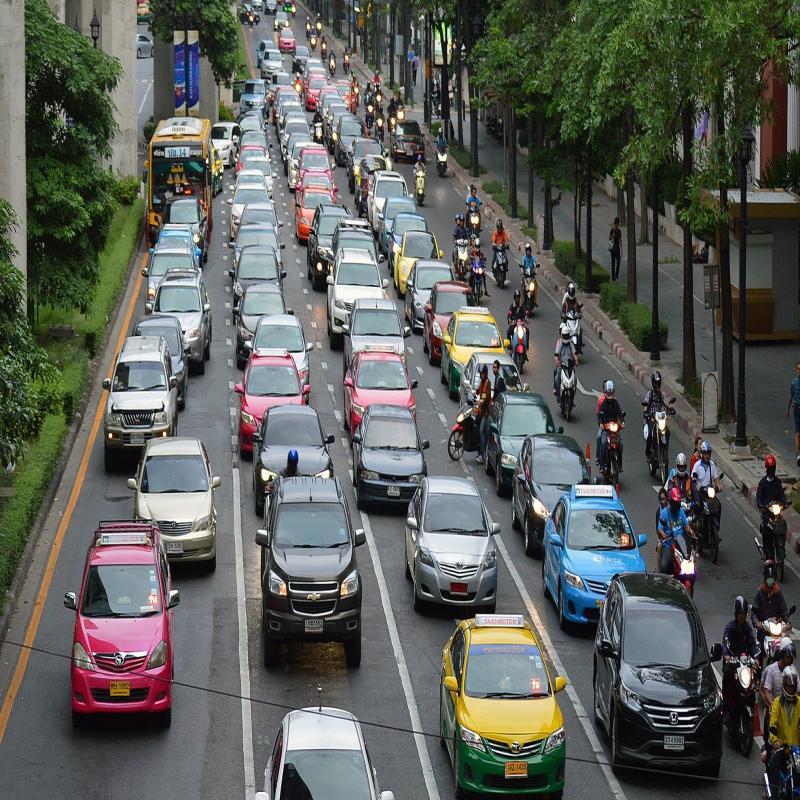bike: (724, 602, 763, 766), (746, 484, 798, 598), (759, 680, 800, 800), (641, 390, 679, 506), (590, 399, 627, 509), (668, 515, 706, 600), (503, 305, 534, 384), (554, 343, 580, 429)
car: (57, 492, 186, 751), (591, 558, 722, 782), (439, 615, 574, 800), (253, 466, 371, 663), (245, 392, 361, 564), (126, 416, 224, 592), (538, 484, 644, 639), (395, 464, 508, 606), (344, 390, 443, 534), (95, 329, 188, 466), (224, 354, 311, 463), (515, 430, 592, 551), (343, 338, 418, 445), (492, 381, 553, 508), (145, 270, 216, 378), (339, 283, 410, 378), (324, 242, 382, 342), (422, 269, 480, 356), (231, 280, 288, 350)
